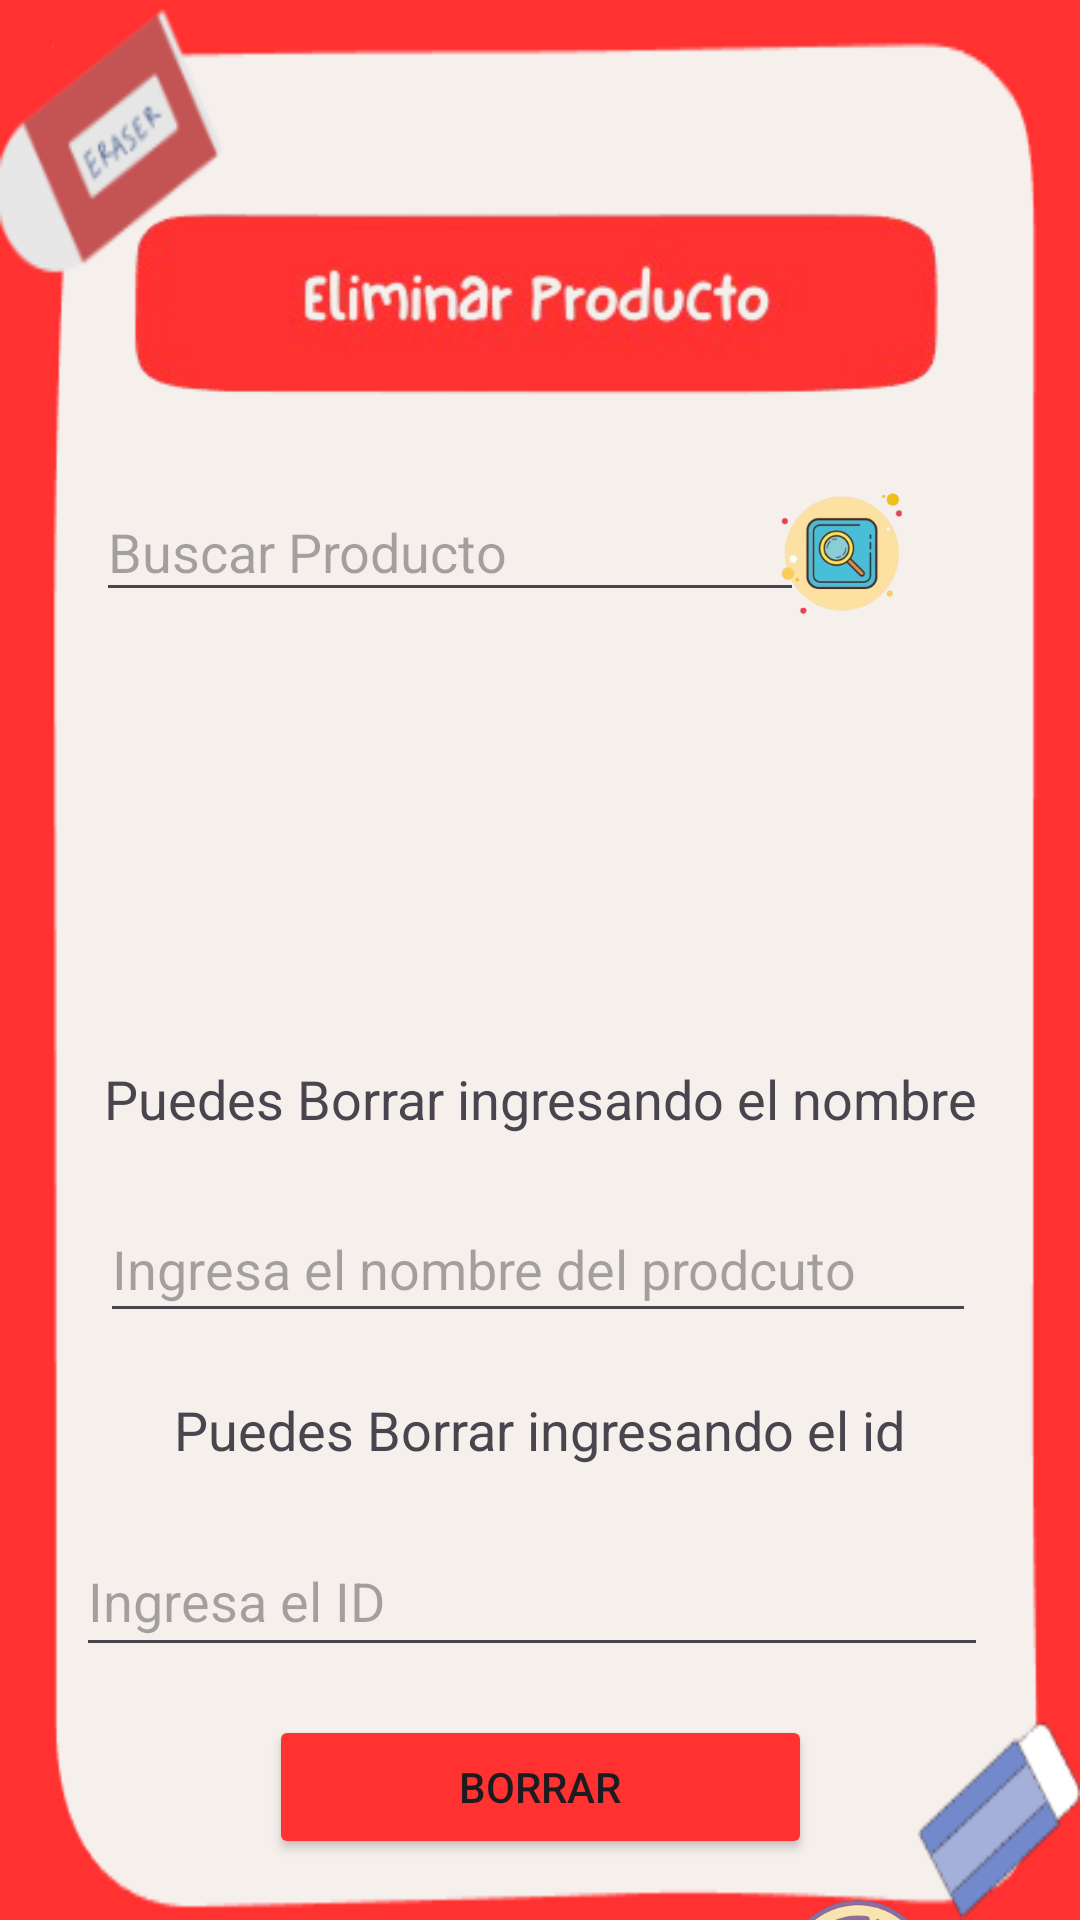

Named icons in this screenshot (1080x1920) and their bounding boxes, (x1, y1, x2, y2):
search: (781, 493, 902, 614)
